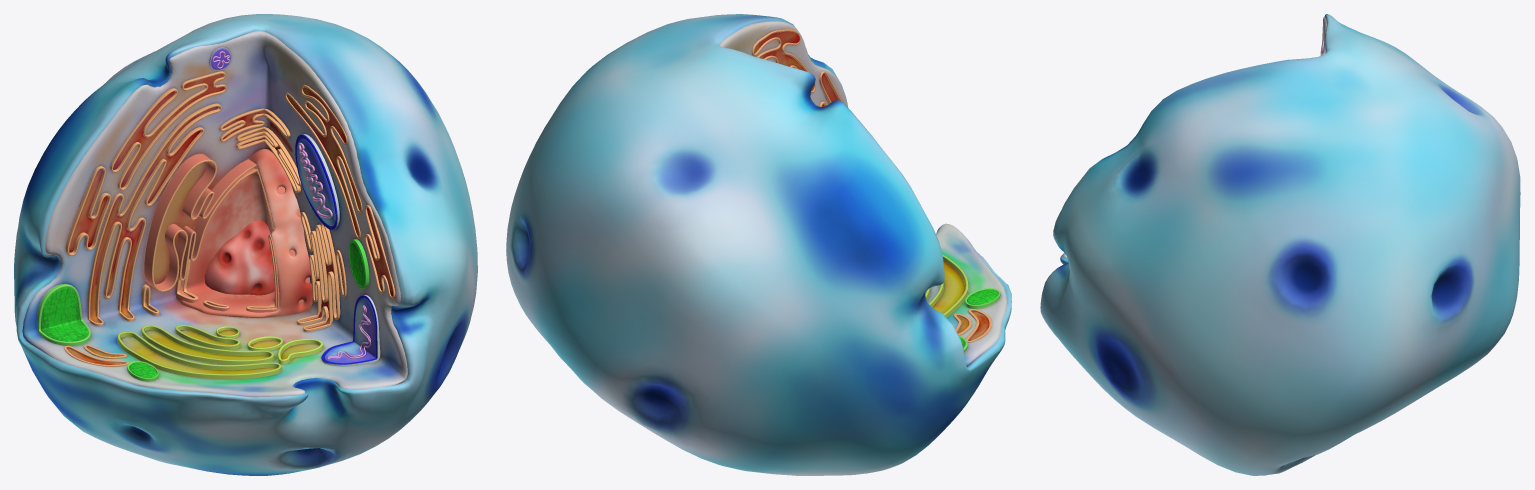
Rendered from Cell.glb.
3 renders of one model, left to right at view 1: azimuth 30°, elevation 25°; view 2: azimuth 150°, elevation 25°; view 3: azimuth 270°, elevation 25°, orthographic. The views are drawn at different scales.
Parts seen in each view (by area): view 1: node_id100, node_id98; view 2: node_id100, node_id98; view 3: node_id100.
Boxes of the visible parts, x1,y1,x2,y2 form: node_id100: (14,14,477,475); node_id98: (22,30,407,397); node_id100: (506,14,1011,475); node_id98: (718,21,1007,366); node_id100: (1040,14,1520,475).
Size of the model in its own units: 0.512 by 0.4728 by 0.5007.
Materials: 2 (2 with a texture image).
